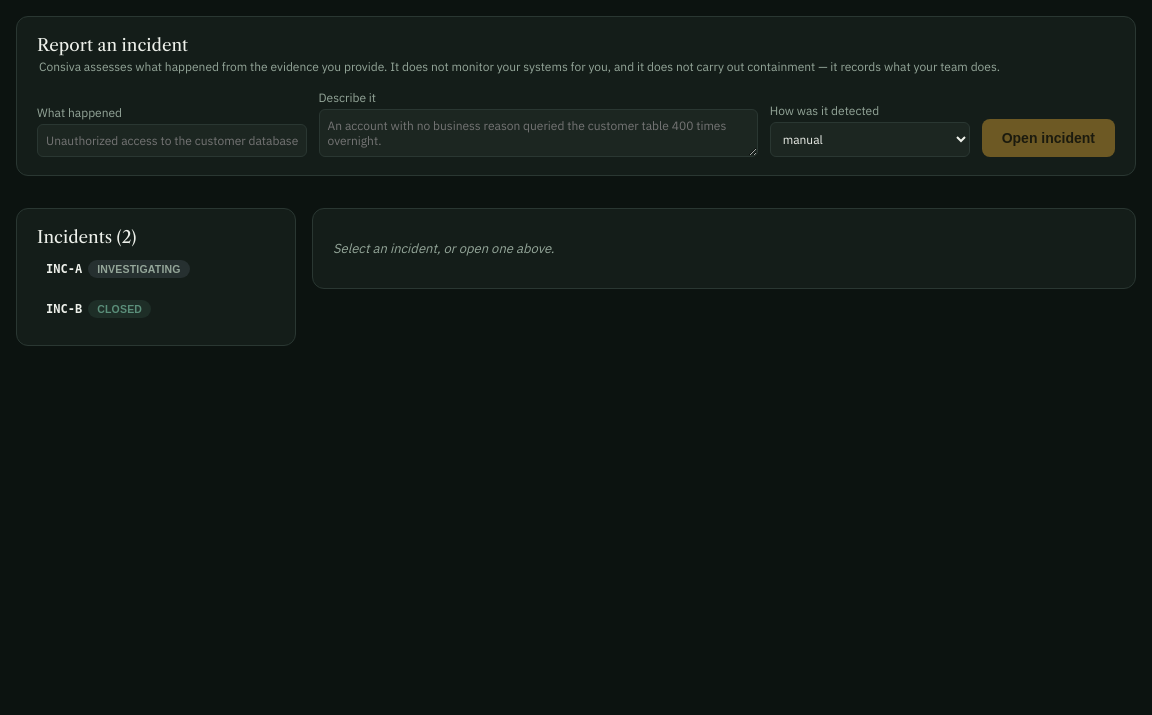
BreachConsole: analysis-progress polling › stops polling the previous incident when a different one is selected
This screenshot has width=1152, height=715.
Click the button "INC-A investigating": (156, 269) [37,251,275,287]
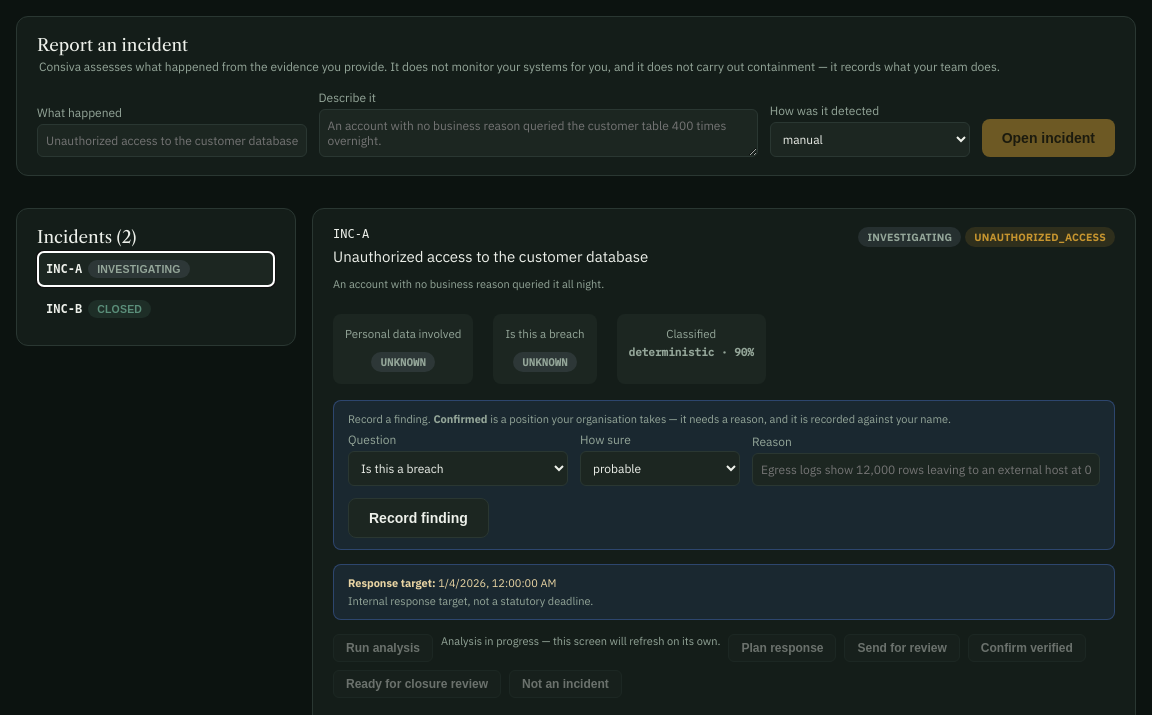
Now the text "Analysis in progress — this screen will refresh on its own." is shown, box [441,634,720,648]
Click the button "INC-B closed": (156, 309) [37,291,275,327]
Wait 12000 ms
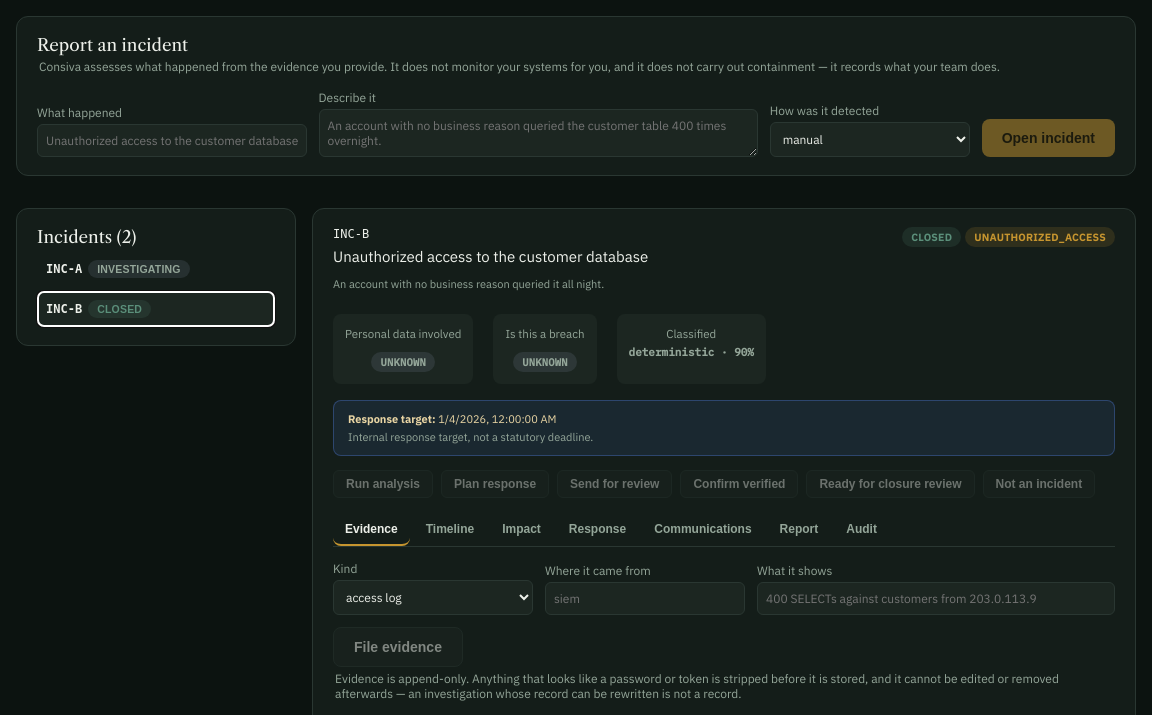
Now the text "Analysis in progress" is gone
